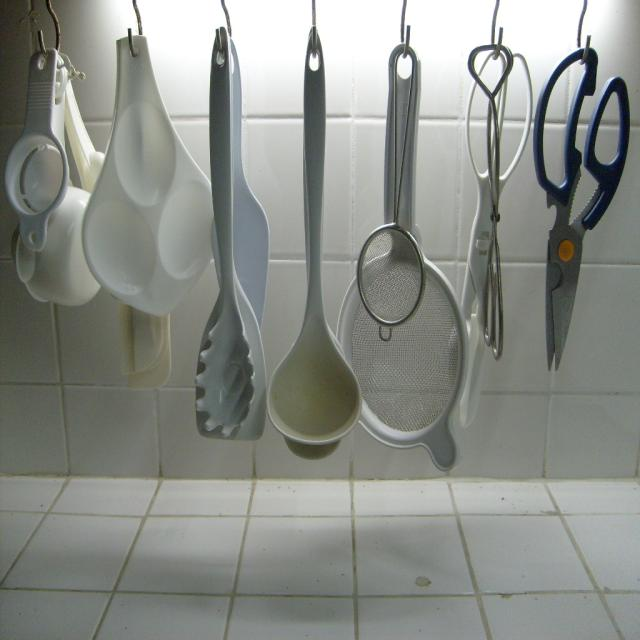scissors: (532, 36, 630, 370), (466, 37, 532, 360)
